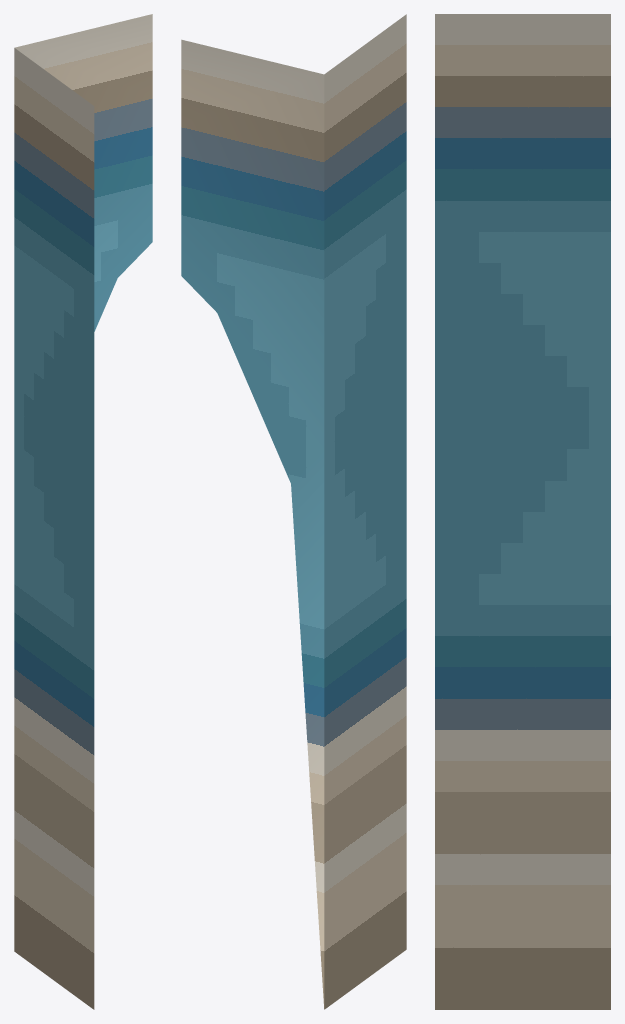
3 renders of one model, left to right at view 1: azimuth 30°, elevation 25°; view 2: azimuth 150°, elevation 25°; view 3: azimuth 270°, elevation 25°, orthographic. The views are drawn at different scales.
Bounding box in the file's own units: 0.5 × 3.12 × 0.5.
1 material, 1 textured.
